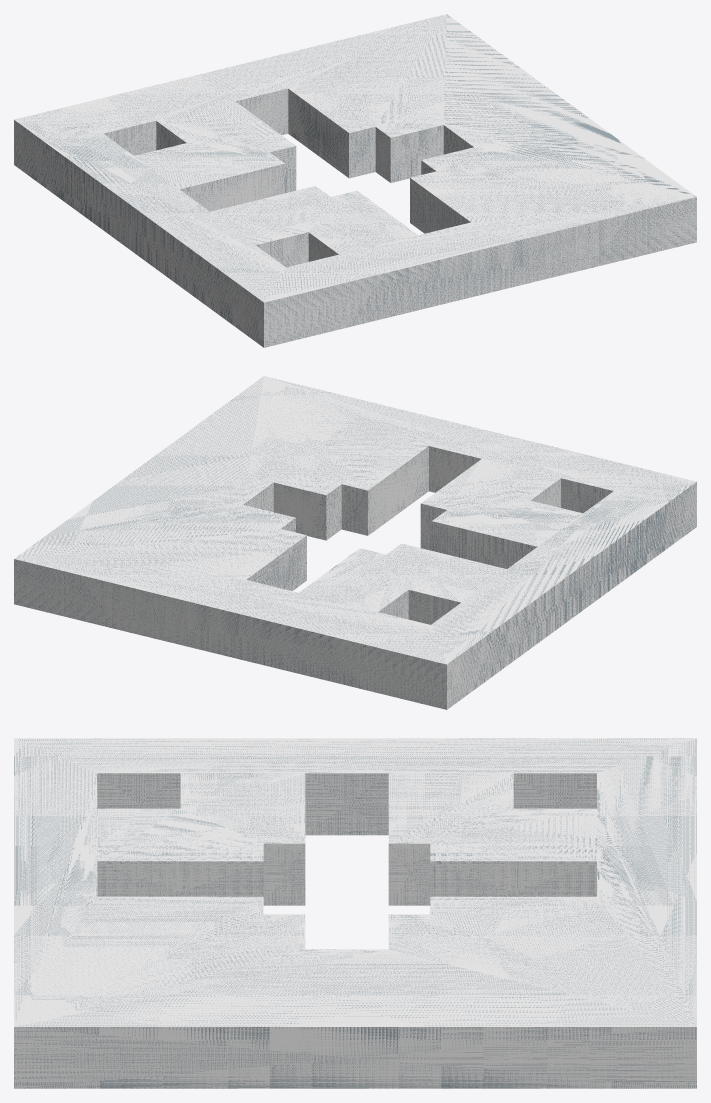
3 renders of one model, top to bottom at view 1: azimuth 30°, elevation 25°; view 2: azimuth 150°, elevation 25°; view 3: azimuth 270°, elevation 25°, orthographic. The views are drawn at different scales.
Visible parts, largest first — view 1: Model; view 2: Model; view 3: Model.
Part boxes in pixels (x1,y1,x2,y2): Model: (14,14,696,347); Model: (14,376,696,709); Model: (14,738,696,1088).
Size of the model in its own units: 5 by 0.5 by 5.
